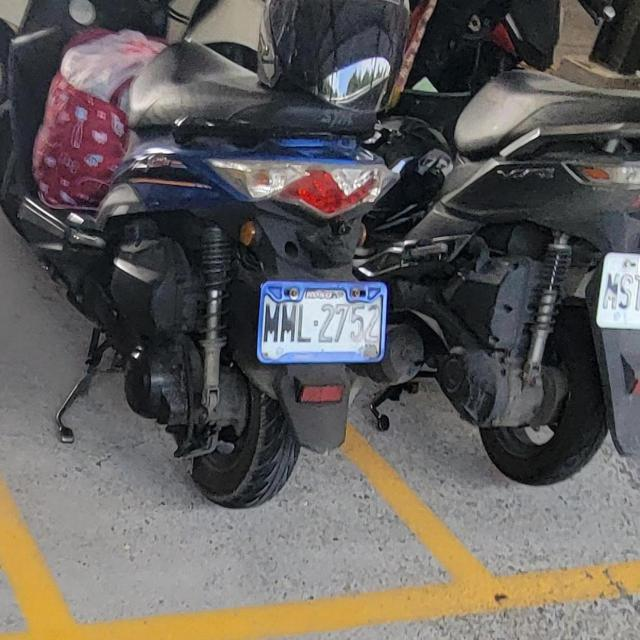W: (250, 269, 392, 374), (591, 244, 640, 339)
